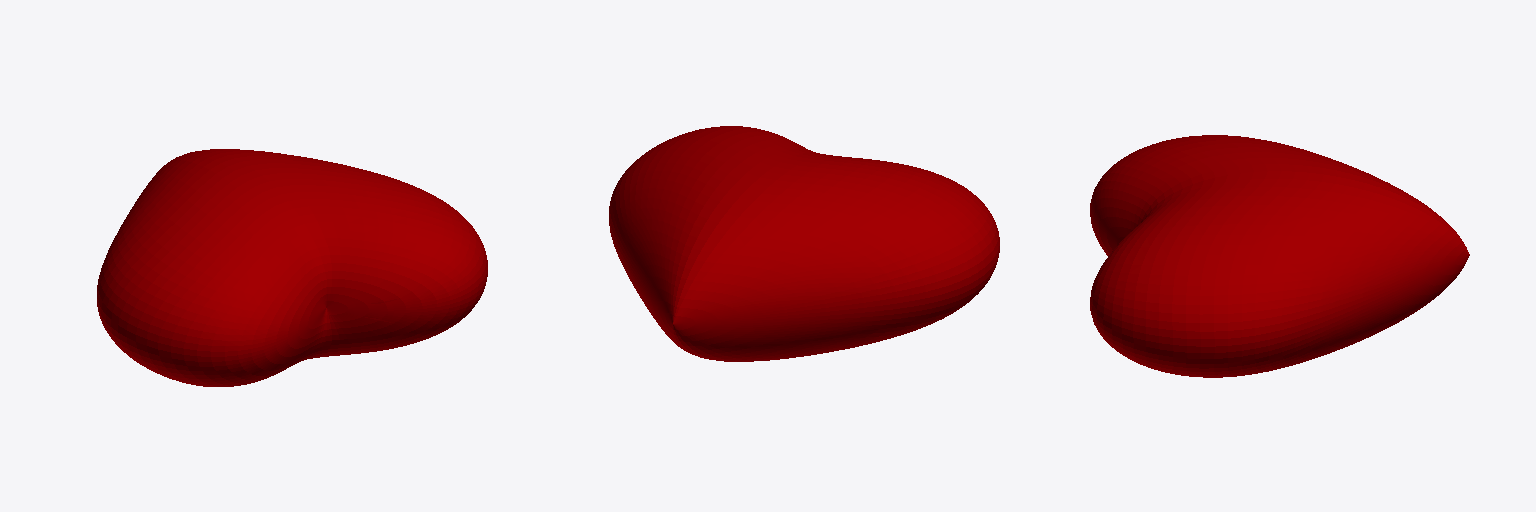
The model's file is heart.obj.
3 views of the same model, side by side, from view 1: azimuth 30°, elevation 25°; view 2: azimuth 150°, elevation 25°; view 3: azimuth 270°, elevation 25° (orthographic).
Visible parts, largest first — view 1: Object.1; view 2: Object.1; view 3: Object.1.
Part boxes in pixels (bbox=[...]): Object.1: bbox=[97, 149, 487, 386]; Object.1: bbox=[609, 126, 999, 361]; Object.1: bbox=[1090, 135, 1469, 377].
Bounding box in the file's own units: 79.98 × 36.56 × 74.1.